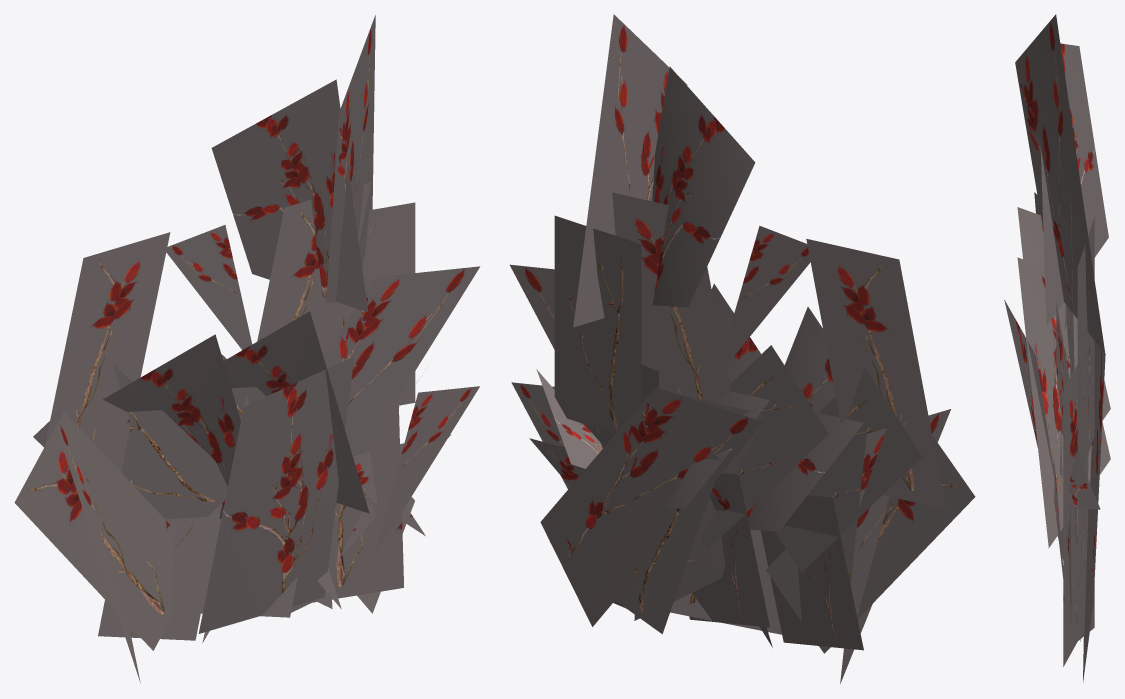
Rendered from ivy12_lod2.fbx.
3 renders of one model, left to right at view 1: azimuth 30°, elevation 25°; view 2: azimuth 150°, elevation 25°; view 3: azimuth 270°, elevation 25°, orthographic. The views are drawn at different scales.
Visible parts, largest first — view 1: Mesh Object; view 2: Mesh Object; view 3: Mesh Object.
Boxes of the visible parts, <box> form: Mesh Object: <box>14,15,480,682</box>; Mesh Object: <box>510,14,975,684</box>; Mesh Object: <box>1004,14,1110,682</box>.
Bounding box in the file's own units: 2.6 × 3.27 × 0.471.
